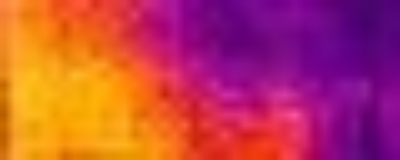Shadow: (147, 1, 400, 160)
